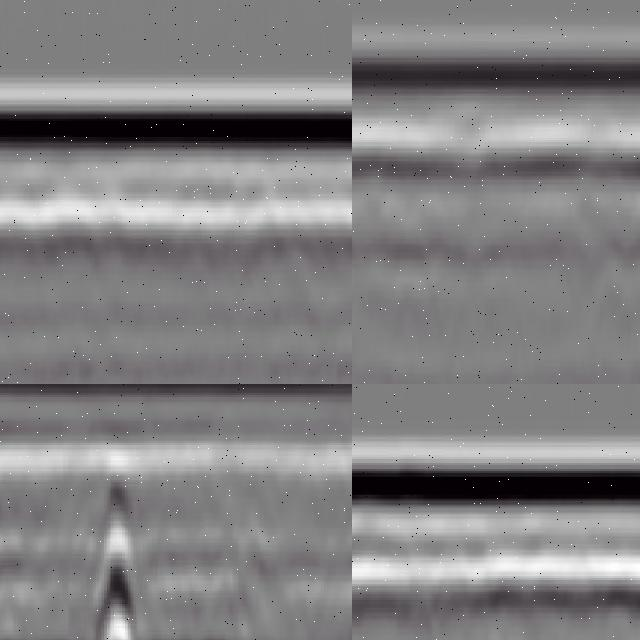crack: (82, 450, 148, 640)
